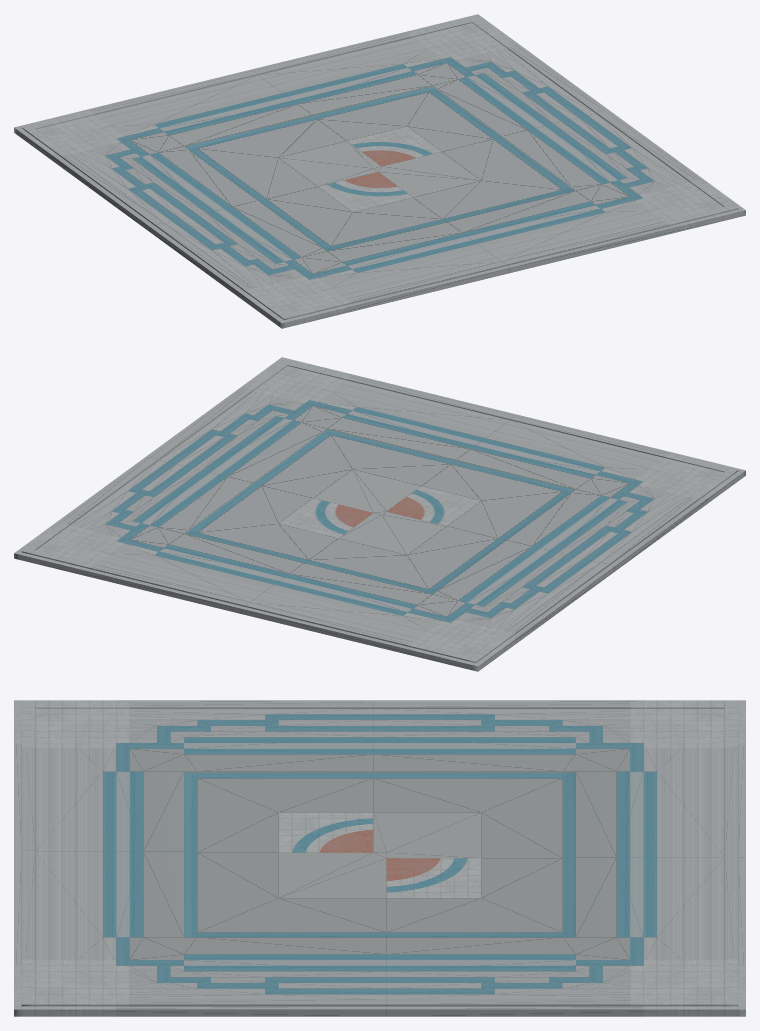
The model's file is objects_un_c02space02.gltf.
The picture shows the model from 3 angles, top to bottom: view 1: azimuth 30°, elevation 25°; view 2: azimuth 150°, elevation 25°; view 3: azimuth 270°, elevation 25°; orthographic projection. The views are drawn at different scales.
Parts seen in each view (by area): view 1: objects_un_c02space02; view 2: objects_un_c02space02; view 3: objects_un_c02space02.
Part boxes in pixels (box(x1,y1,x2,y2)): objects_un_c02space02: box(14, 14, 745, 328); objects_un_c02space02: box(14, 357, 745, 671); objects_un_c02space02: box(14, 700, 745, 1016).
Size of what is drawn, in the model's own units: 64.38 by 0.9 by 64.38.
3 materials, 3 textured.
